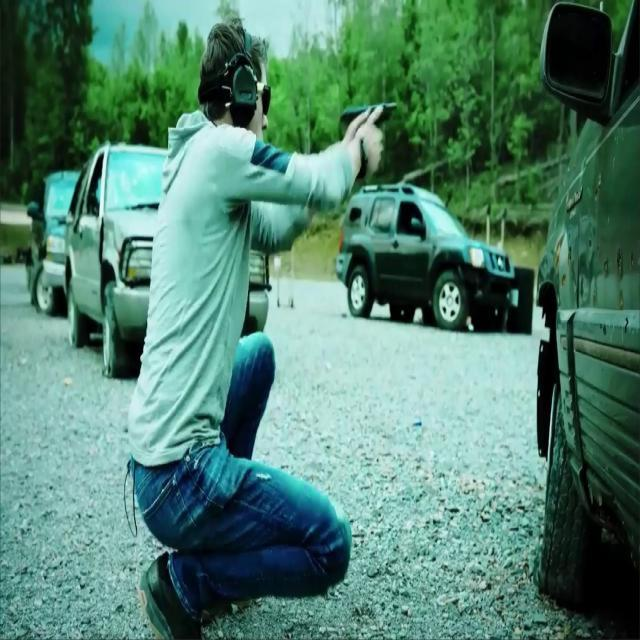weapon: (340, 102, 398, 180)
